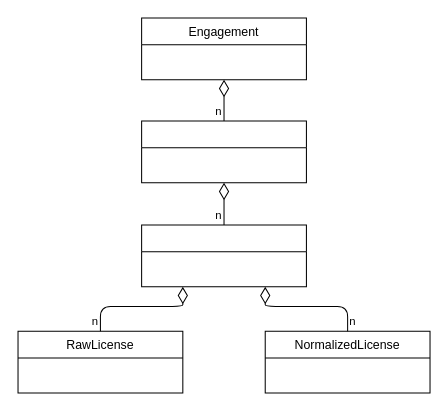
The diagram is 448 pixels wide and 411 high, and some of its shapes have lost their labels. Here are the shapes that lost their labels. From the top down, the centre of each, then its label:
[223,151]: Application
[223,255]: ApplicationComponent
